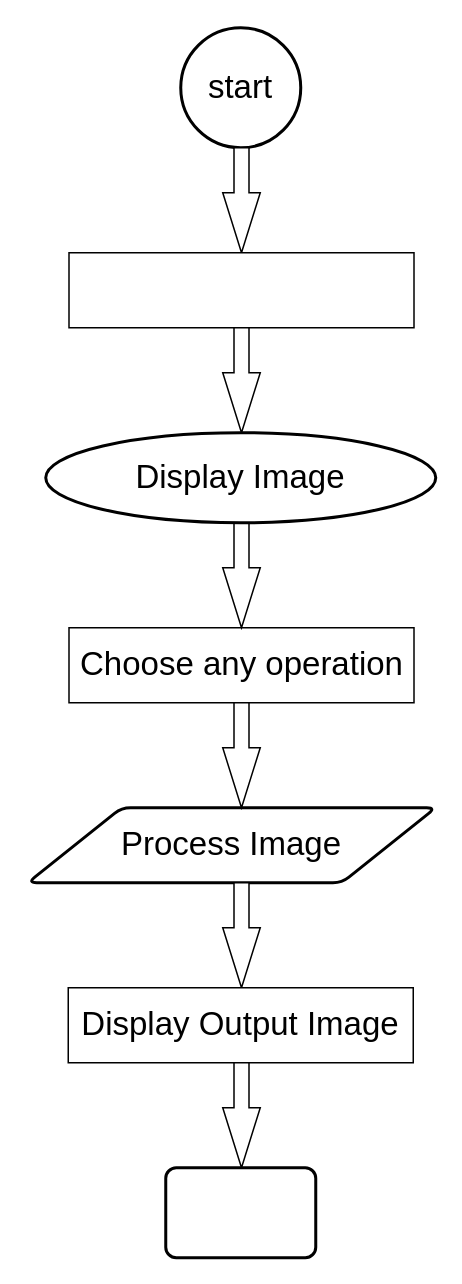
Image size: 462x1284. Some labels were removed from this diagram. Here are the shapes that lost their labels. From the top down, the centre of each, then its label:
pixel 241 289: Upload Image
pixel 240 1212: Save
